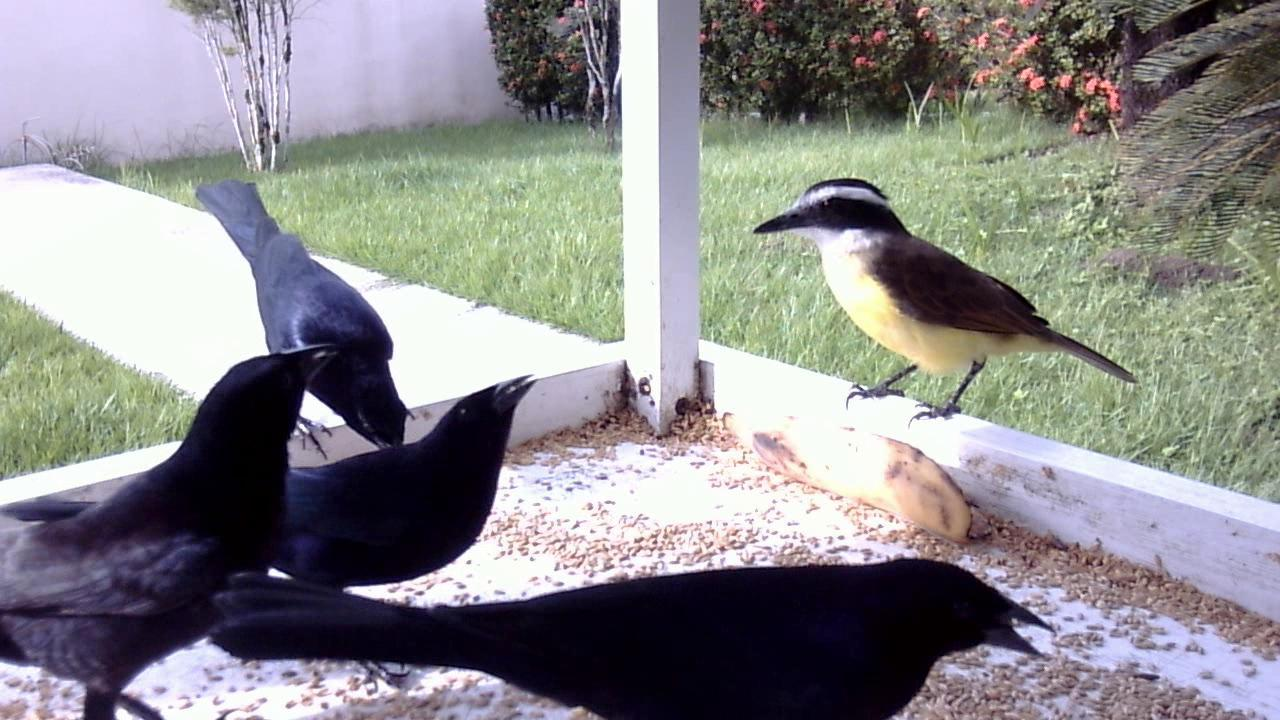bem_te_vi: (744, 181, 1141, 437)
chupim: (216, 554, 1060, 720), (1, 340, 340, 720), (1, 370, 556, 590), (177, 175, 424, 472)
